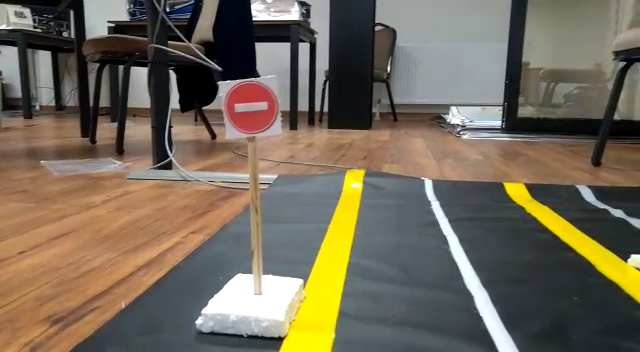girisi_olmayan_yol: (218, 76, 279, 134)
